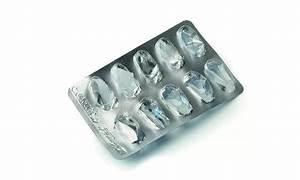pill_Strip: (68, 21, 242, 158)
